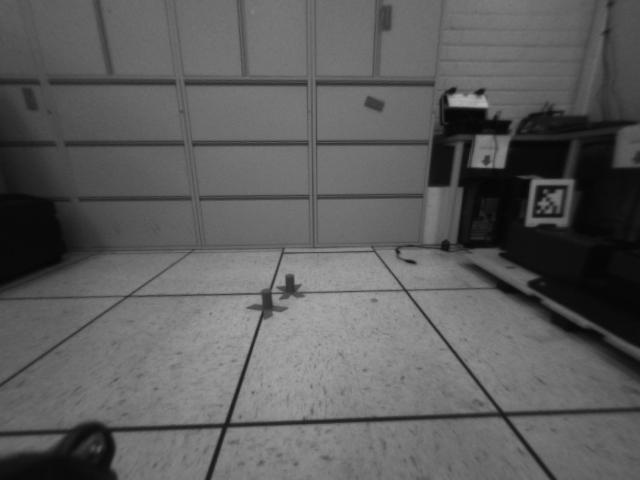X: (246, 289, 288, 320), (276, 274, 306, 302)
